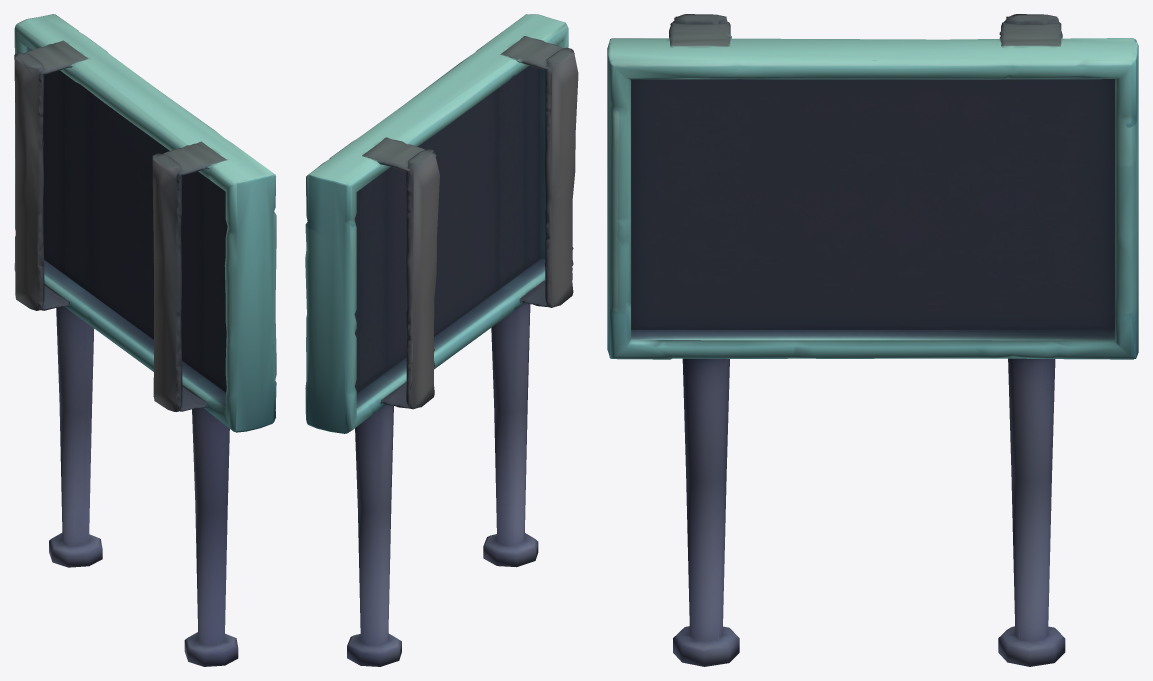
Rendered from info-stand.glb.
3 views of the same model, side by side, from view 1: azimuth 30°, elevation 25°; view 2: azimuth 150°, elevation 25°; view 3: azimuth 270°, elevation 25° (orthographic). The views are drawn at different scales.
Visible parts, largest first — view 1: tripo_node_kodyurd-model-72____________________; view 2: tripo_node_kodyurd-model-72____________________; view 3: tripo_node_kodyurd-model-72____________________.
Boxes of the visible parts, bbox=[...] form: tripo_node_kodyurd-model-72____________________: bbox=[14, 14, 276, 666]; tripo_node_kodyurd-model-72____________________: bbox=[305, 14, 578, 666]; tripo_node_kodyurd-model-72____________________: bbox=[607, 14, 1138, 666].
Bounding box in the file's own units: 0.1777 × 0.998 × 0.791.
1 material, 1 textured.
